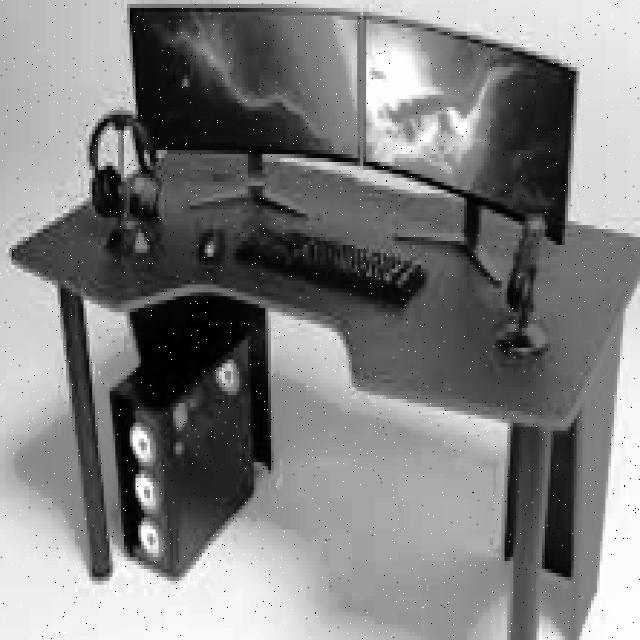table: (12, 150, 640, 640)
